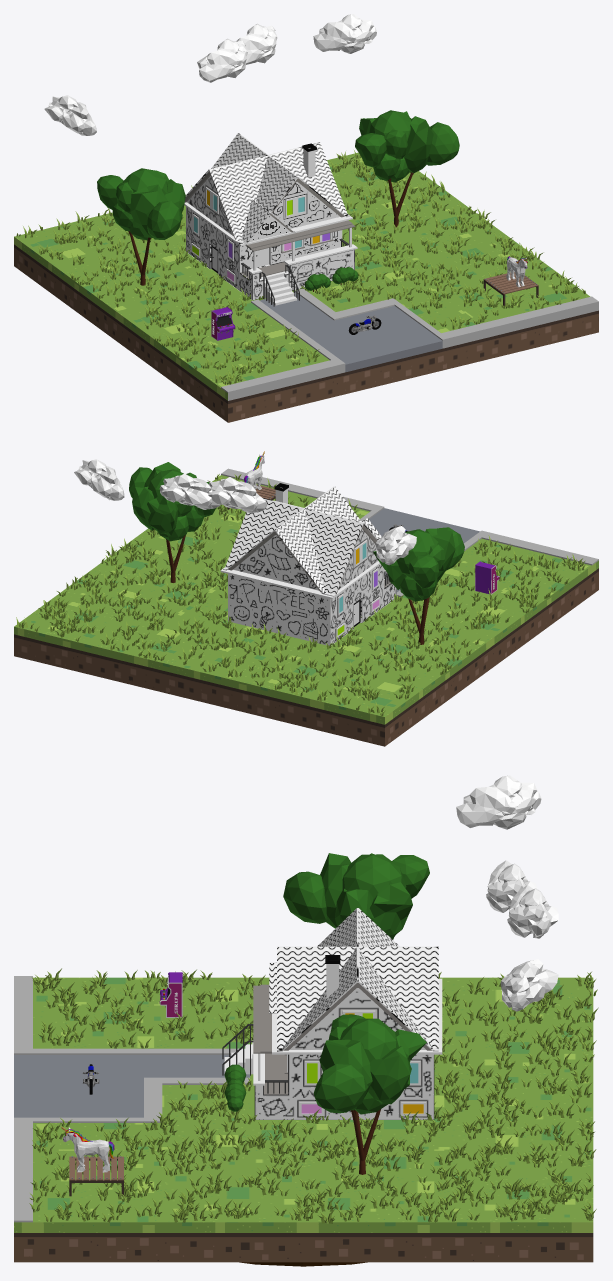
The picture shows the model from 3 angles, top to bottom: view 1: azimuth 30°, elevation 25°; view 2: azimuth 150°, elevation 25°; view 3: azimuth 270°, elevation 25°; orthographic projection. The views are drawn at different scales.
Visible parts, largest first — view 1: Cube.006, Cube.879, Circle.012_Grass_0.192, Cube.007, tree, tree.001, Cube.009, OBJRANDOM_ARCADE; view 2: Cube.006, Cube.879, Circle.012_Grass_0.192, Cube.007, tree.001, tree, OBJRANDOM_ARCADE, ANIMAL_UNICORNIO; view 3: Cube.006, Circle.012_Grass_0.192, Cube.879, tree, Cube.007, tree.001, Cube.009, ANIMAL_UNICORNIO, OBJRANDOM_ARCADE.
Boxes of the visible parts, box(x1,y1,x2,y2) form: Cube.006: box(14, 152, 598, 422); Cube.879: box(184, 133, 357, 306); Circle.012_Grass_0.192: box(16, 150, 585, 384); Cube.007: box(44, 14, 376, 135); tree: box(355, 110, 459, 227); tree.001: box(97, 168, 185, 285); Cube.009: box(483, 272, 538, 305); OBJRANDOM_ARCADE: box(211, 307, 235, 340); Cube.006: box(14, 468, 598, 746); Cube.879: box(220, 483, 396, 645); Circle.012_Grass_0.192: box(16, 474, 585, 716); Cube.007: box(74, 459, 416, 565); tree.001: box(373, 527, 464, 644); tree: box(129, 462, 215, 582); OBJRANDOM_ARCADE: box(475, 561, 499, 594); ANIMAL_UNICORNIO: box(244, 451, 264, 489); Cube.006: box(14, 976, 593, 1262); Circle.012_Grass_0.192: box(29, 968, 598, 1223); Cube.879: box(222, 908, 442, 1119); tree: box(313, 1014, 426, 1174); Cube.007: box(456, 775, 558, 1011); tree.001: box(283, 853, 429, 939); Cube.009: box(69, 1156, 123, 1196); ANIMAL_UNICORNIO: box(61, 1126, 114, 1172); OBJRANDOM_ARCADE: box(159, 972, 182, 1017).
Bounding box in the file's own units: 4071 × 2242 × 4040.
50 materials, 10 textured.
